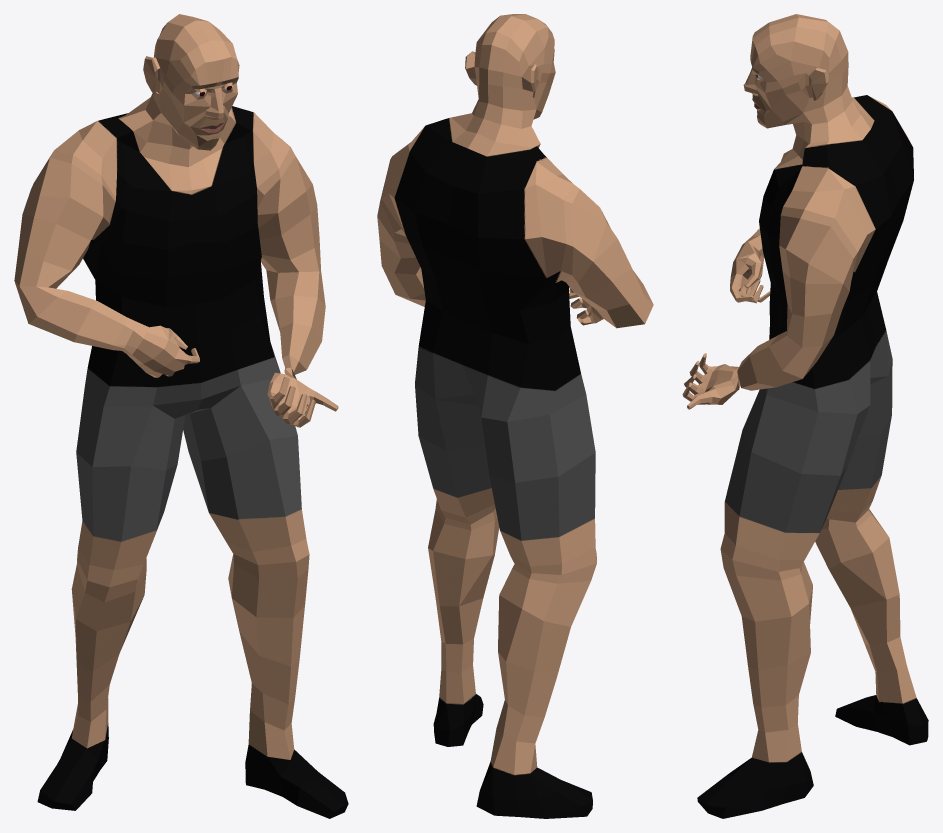
Rendered from PlayerIdle(196).obj.
The picture shows the model from 3 angles, left to right: view 1: azimuth 30°, elevation 25°; view 2: azimuth 150°, elevation 25°; view 3: azimuth 270°, elevation 25°; orthographic projection. The views are drawn at different scales.
Parts seen in each view (by area): view 1: Plane002; view 2: Plane002; view 3: Plane002.
Boxes of the visible parts, x1,y1,x2,y2 form: Plane002: [14, 14, 348, 818]; Plane002: [377, 14, 653, 818]; Plane002: [682, 14, 928, 818].
Bounding box in the file's own units: 686 × 1799 × 536.
